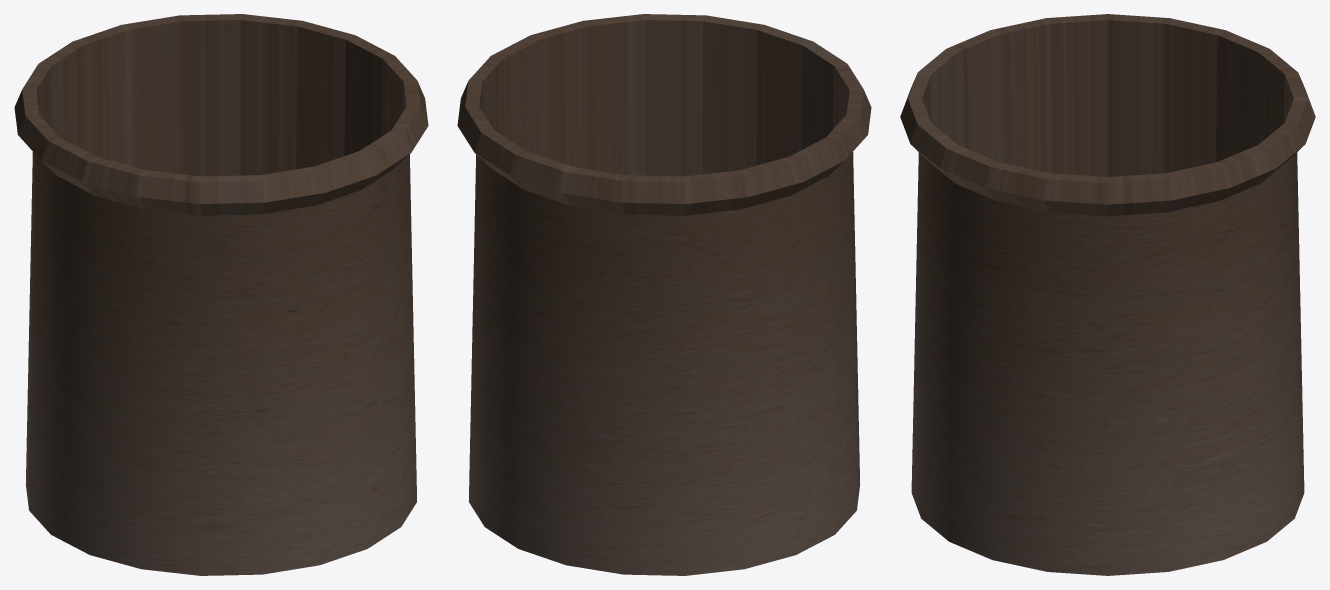
The model's file is Vaso.obj.
3 views of the same model, side by side, from view 1: azimuth 30°, elevation 25°; view 2: azimuth 150°, elevation 25°; view 3: azimuth 270°, elevation 25° (orthographic).
Parts seen in each view (by area): view 1: polySurface11 polySurface10; view 2: polySurface11 polySurface10; view 3: polySurface11 polySurface10.
Part boxes in pixels (x1,y1,x2,y2): polySurface11 polySurface10: (14, 14, 428, 575); polySurface11 polySurface10: (457, 14, 871, 575); polySurface11 polySurface10: (900, 14, 1315, 575).
Bounding box in the file's own units: 0.3247 × 0.34 × 0.3247.
Materials: 1 (1 with a texture image).
